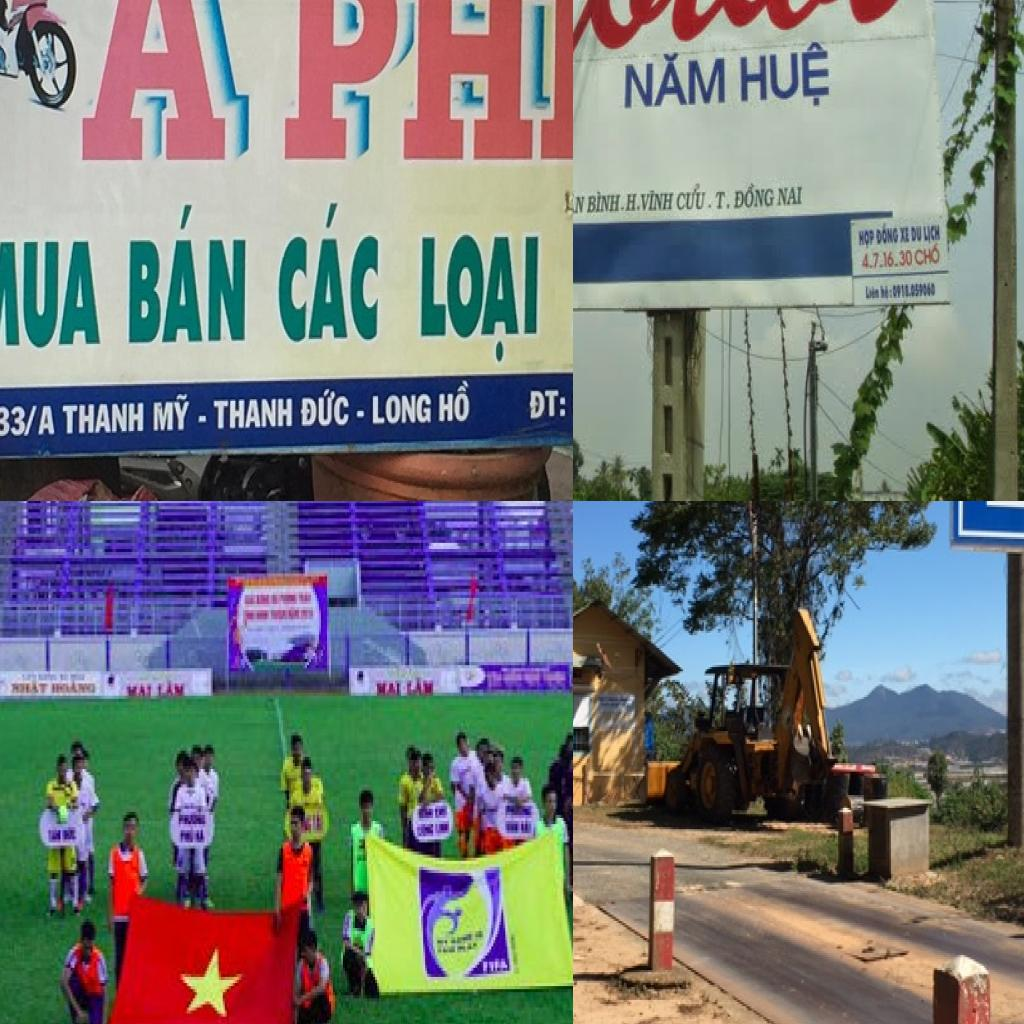text: (275, 0, 573, 169), (61, 0, 256, 164), (573, 0, 931, 57), (121, 202, 251, 356), (417, 230, 546, 366), (275, 202, 387, 349), (0, 225, 105, 357), (620, 44, 732, 115), (740, 32, 832, 112), (62, 399, 147, 438), (211, 396, 296, 434), (298, 386, 353, 432), (369, 391, 435, 429), (150, 393, 192, 436), (433, 379, 472, 424), (528, 384, 568, 426), (675, 180, 715, 214), (48, 680, 102, 705), (862, 248, 916, 272), (734, 180, 776, 209), (369, 677, 409, 705), (476, 949, 512, 980), (10, 674, 52, 699), (586, 190, 625, 216), (156, 677, 190, 705), (0, 402, 27, 437), (640, 189, 676, 214), (124, 680, 158, 705), (409, 674, 439, 702), (35, 403, 57, 441), (913, 243, 943, 269), (776, 184, 804, 209), (875, 221, 901, 247), (23, 402, 38, 440), (714, 188, 734, 212), (922, 223, 943, 245), (626, 190, 644, 214), (857, 228, 876, 250), (573, 190, 586, 217), (865, 282, 881, 302), (910, 223, 924, 243), (880, 282, 894, 302), (898, 226, 912, 245)
